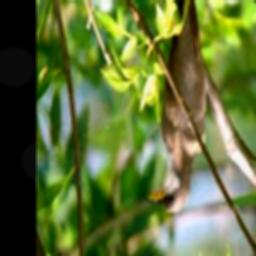Cuckoo: (144, 0, 206, 213)
